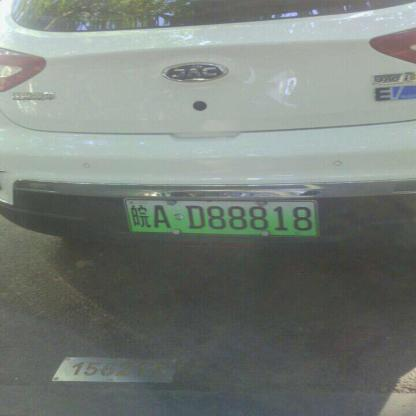lp: (126, 200, 316, 235)
